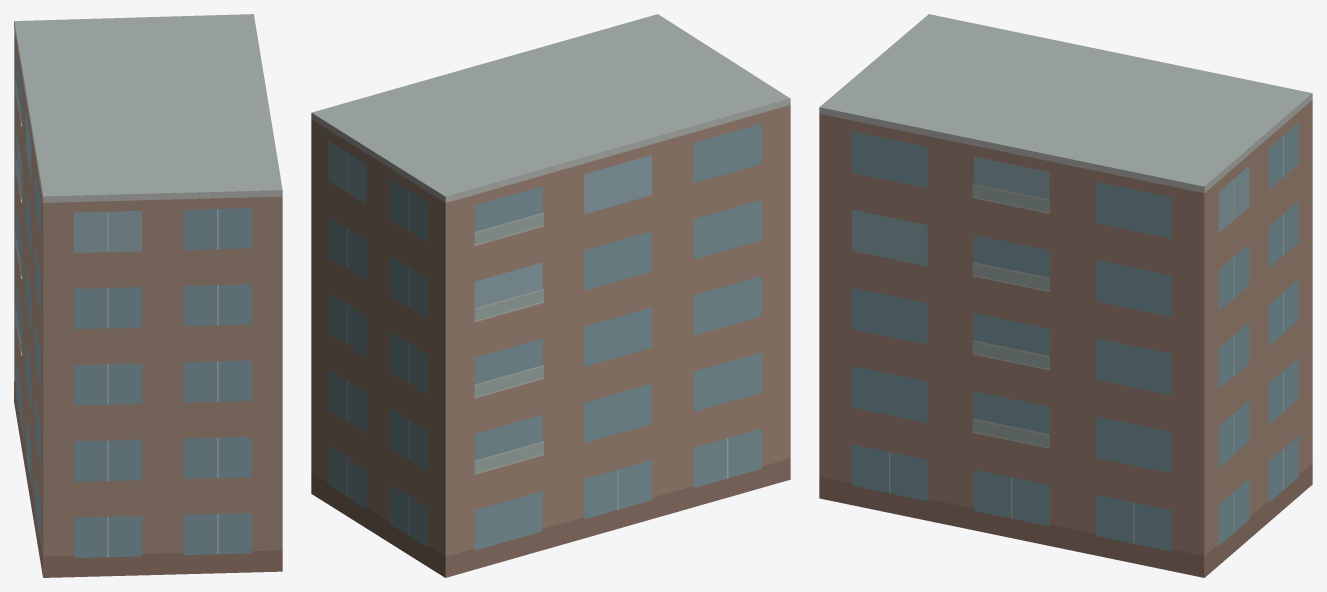
The model's file is survey-upis-32886615.glb.
3 views of the same model, side by side, from view 1: azimuth 30°, elevation 25°; view 2: azimuth 150°, elevation 25°; view 3: azimuth 270°, elevation 25° (orthographic). The views are drawn at different scales.
Visible parts, largest first — view 1: survey-upis-32886615.tmp; view 2: survey-upis-32886615.tmp; view 3: survey-upis-32886615.tmp.
Part boxes in pixels (x1,y1,x2,y2): survey-upis-32886615.tmp: [14, 14, 282, 577]; survey-upis-32886615.tmp: [311, 14, 790, 577]; survey-upis-32886615.tmp: [819, 14, 1312, 577].
Size of the model in its own units: 13.83 by 14.6 by 16.7.
